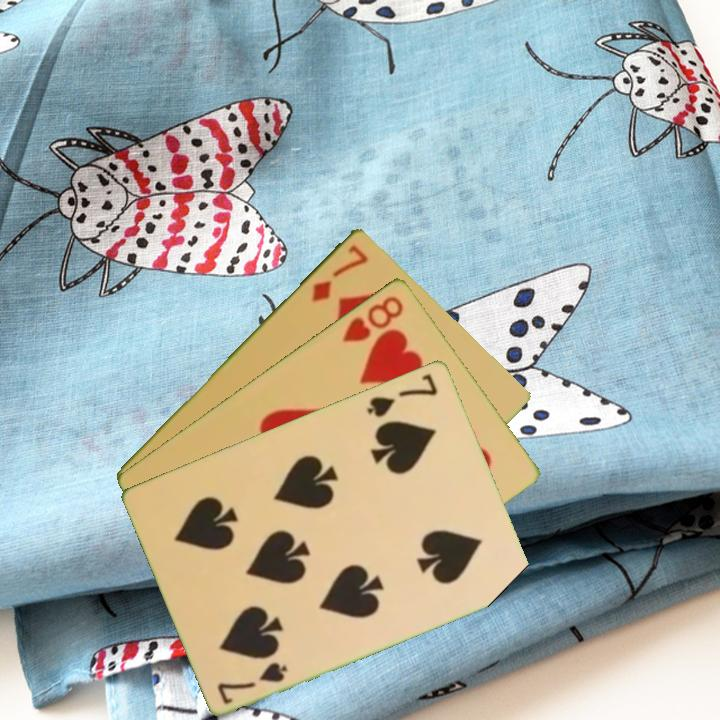7d: (308, 240, 371, 305)
7s: (363, 369, 441, 420), (214, 658, 291, 707)
8h: (339, 291, 407, 345)
